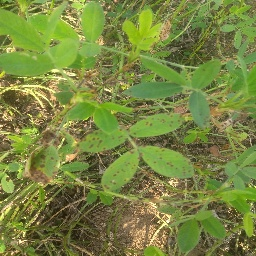GroundNut_Leaf: (1, 10, 47, 52), (139, 145, 193, 179), (102, 156, 136, 204), (123, 11, 162, 50), (128, 112, 184, 139), (135, 56, 186, 79), (75, 132, 125, 154), (25, 144, 57, 178), (190, 57, 221, 91), (119, 82, 184, 98), (81, 1, 106, 42), (2, 54, 49, 74), (225, 146, 256, 174), (178, 218, 200, 255), (48, 14, 79, 39), (189, 94, 209, 131), (51, 40, 76, 69), (92, 107, 121, 132), (79, 44, 103, 69), (203, 215, 225, 236), (68, 100, 90, 120), (232, 176, 250, 194)
